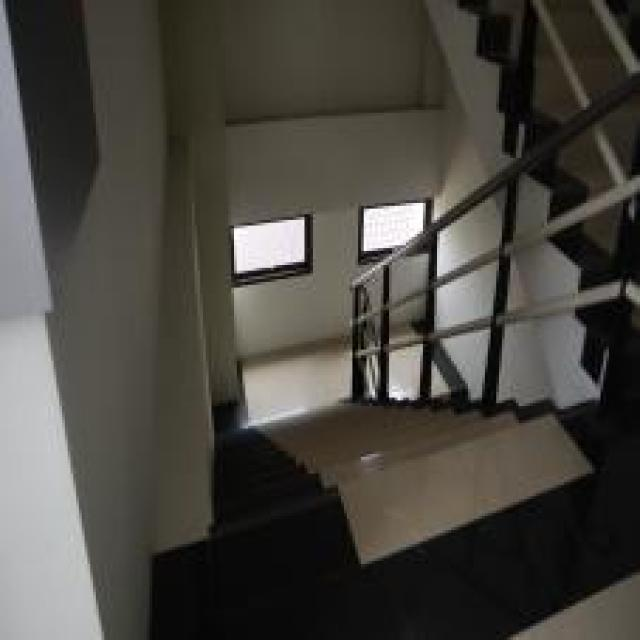downstair: (216, 430, 591, 638)
